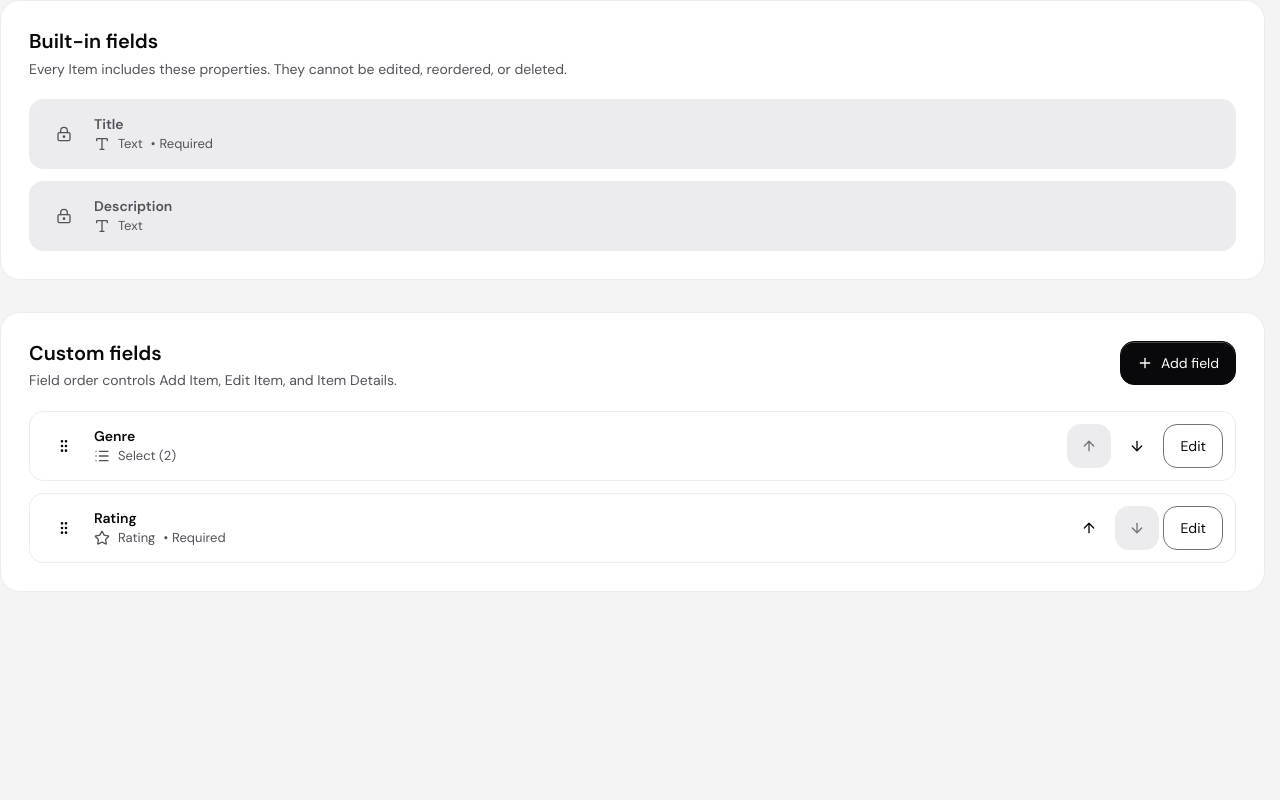
Test case: Field manager › rolls a failed final queued move back to the last successful order
What coordinates should you click on to do the following:
click the button named "Move Genre down"
I would click on:
 (1138, 446)
Its box is [1116,424,1160,468].
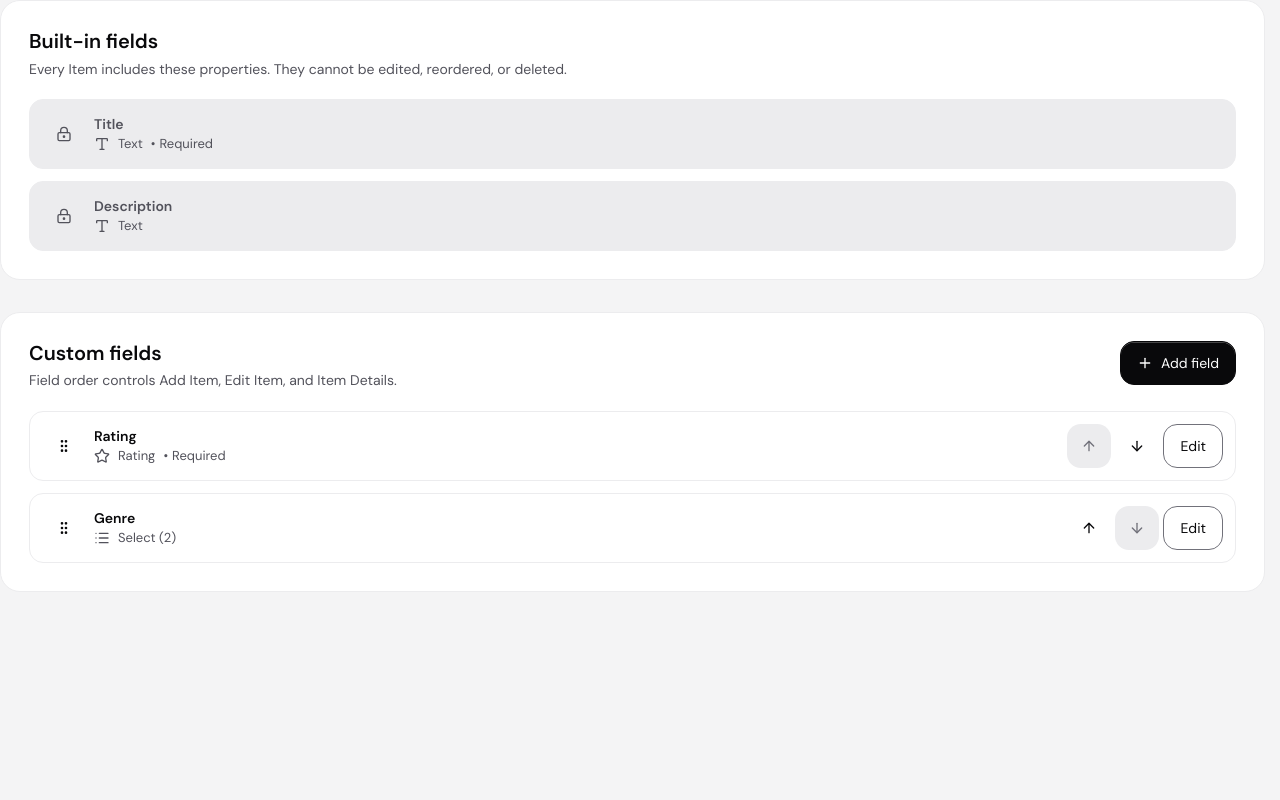
What coordinates should you click on to do the following:
click the button named "Move Genre up"
I would click on:
 (1090, 528)
Its box is [1068,506,1112,550].
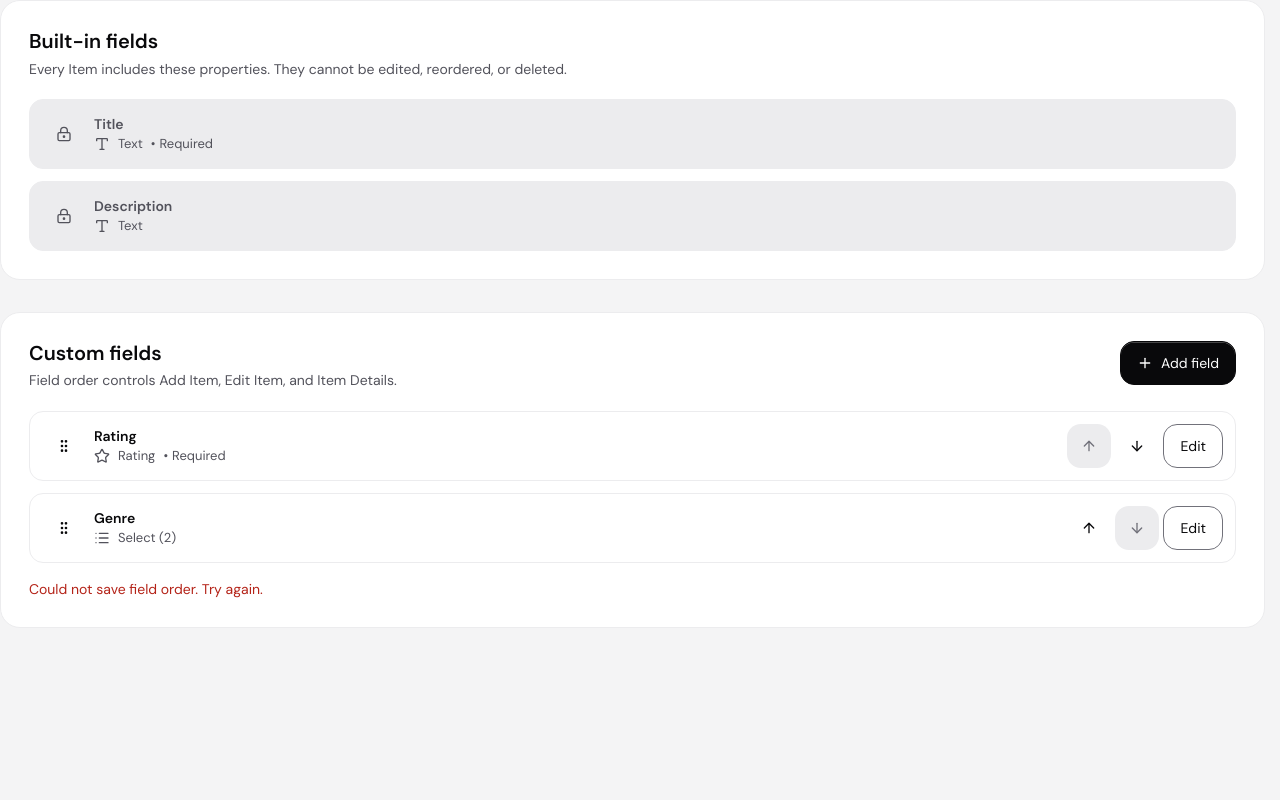
Result: the message shows "Could not save field order" at [29,580,263,598]
